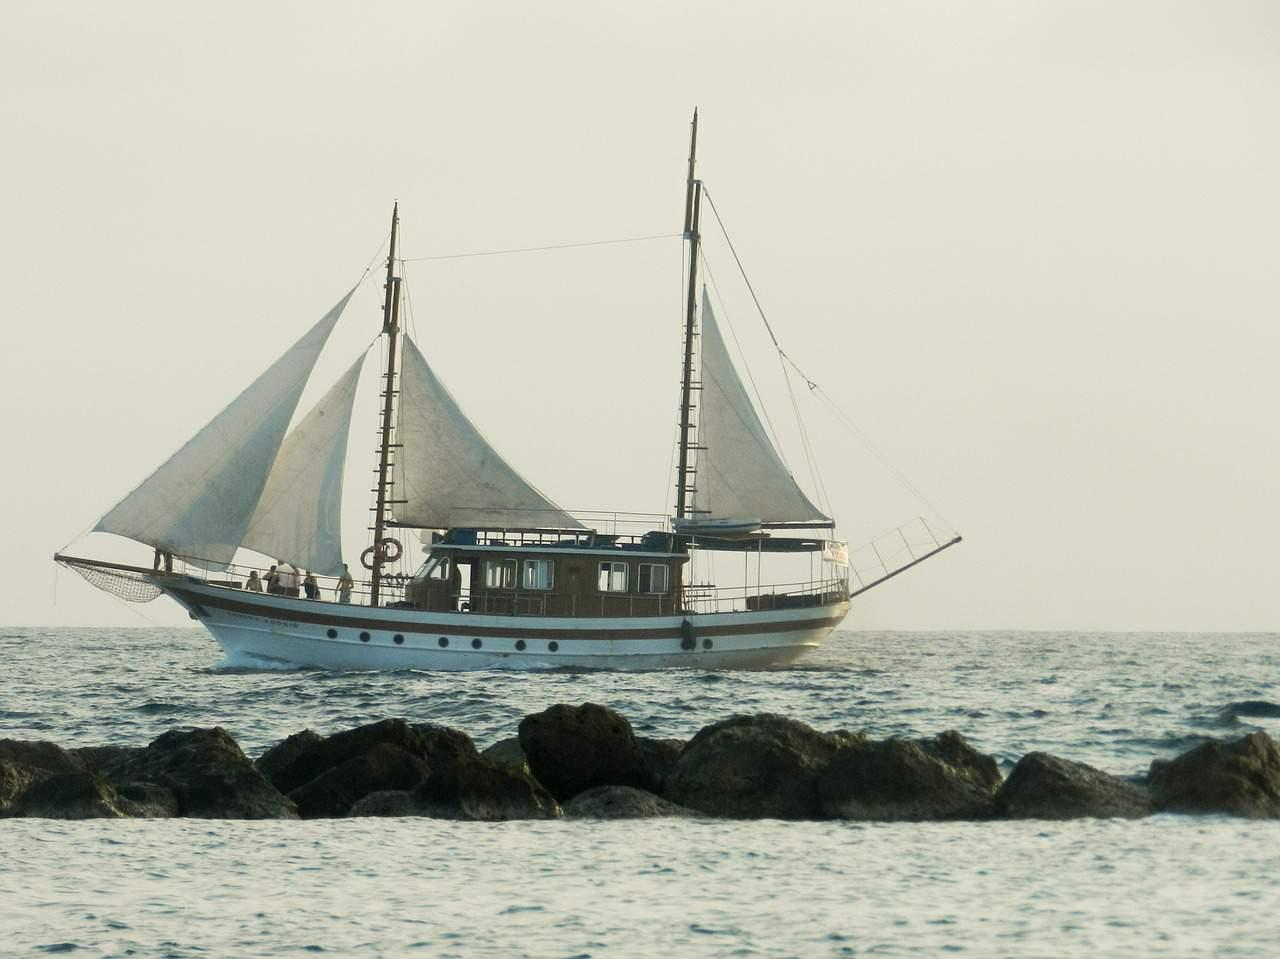Ship: (50, 105, 965, 670)
